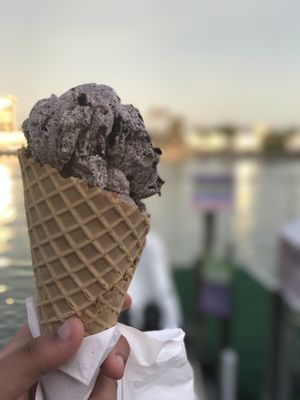pizza: (1, 76, 205, 399)
